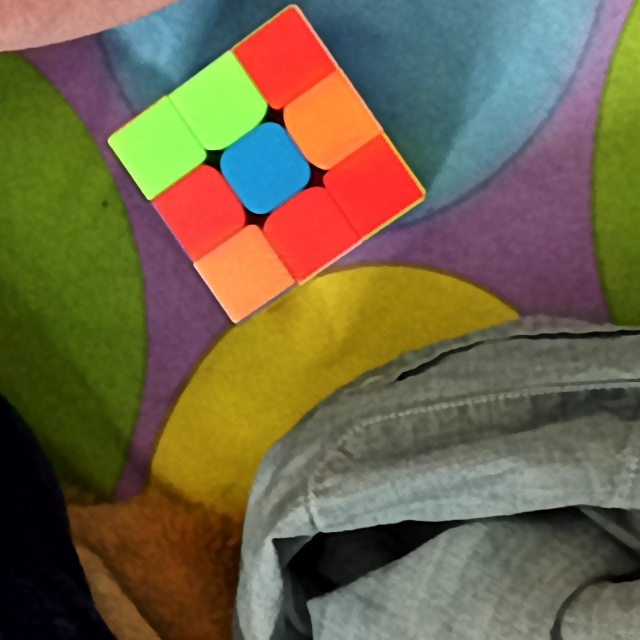tile: (347, 160, 402, 209), (305, 97, 357, 148), (281, 209, 336, 257), (195, 77, 246, 128), (175, 187, 226, 238), (261, 31, 311, 83), (242, 143, 293, 193), (219, 249, 267, 298), (134, 126, 182, 174)
